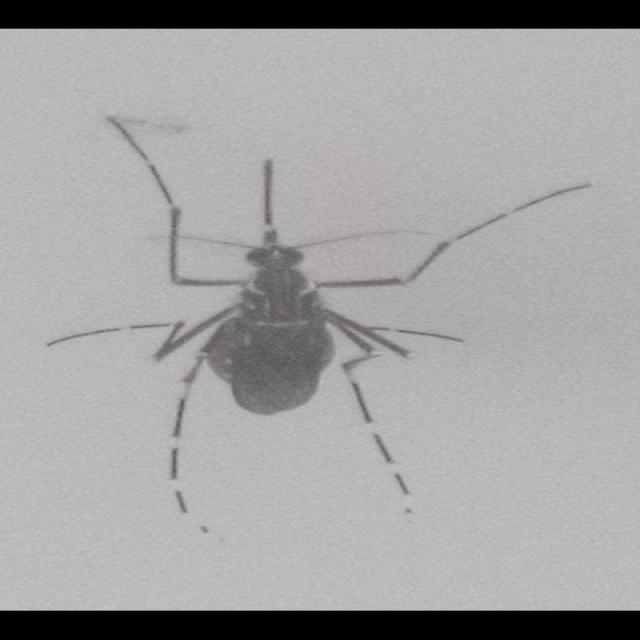aegypti: (47, 126, 557, 517)
